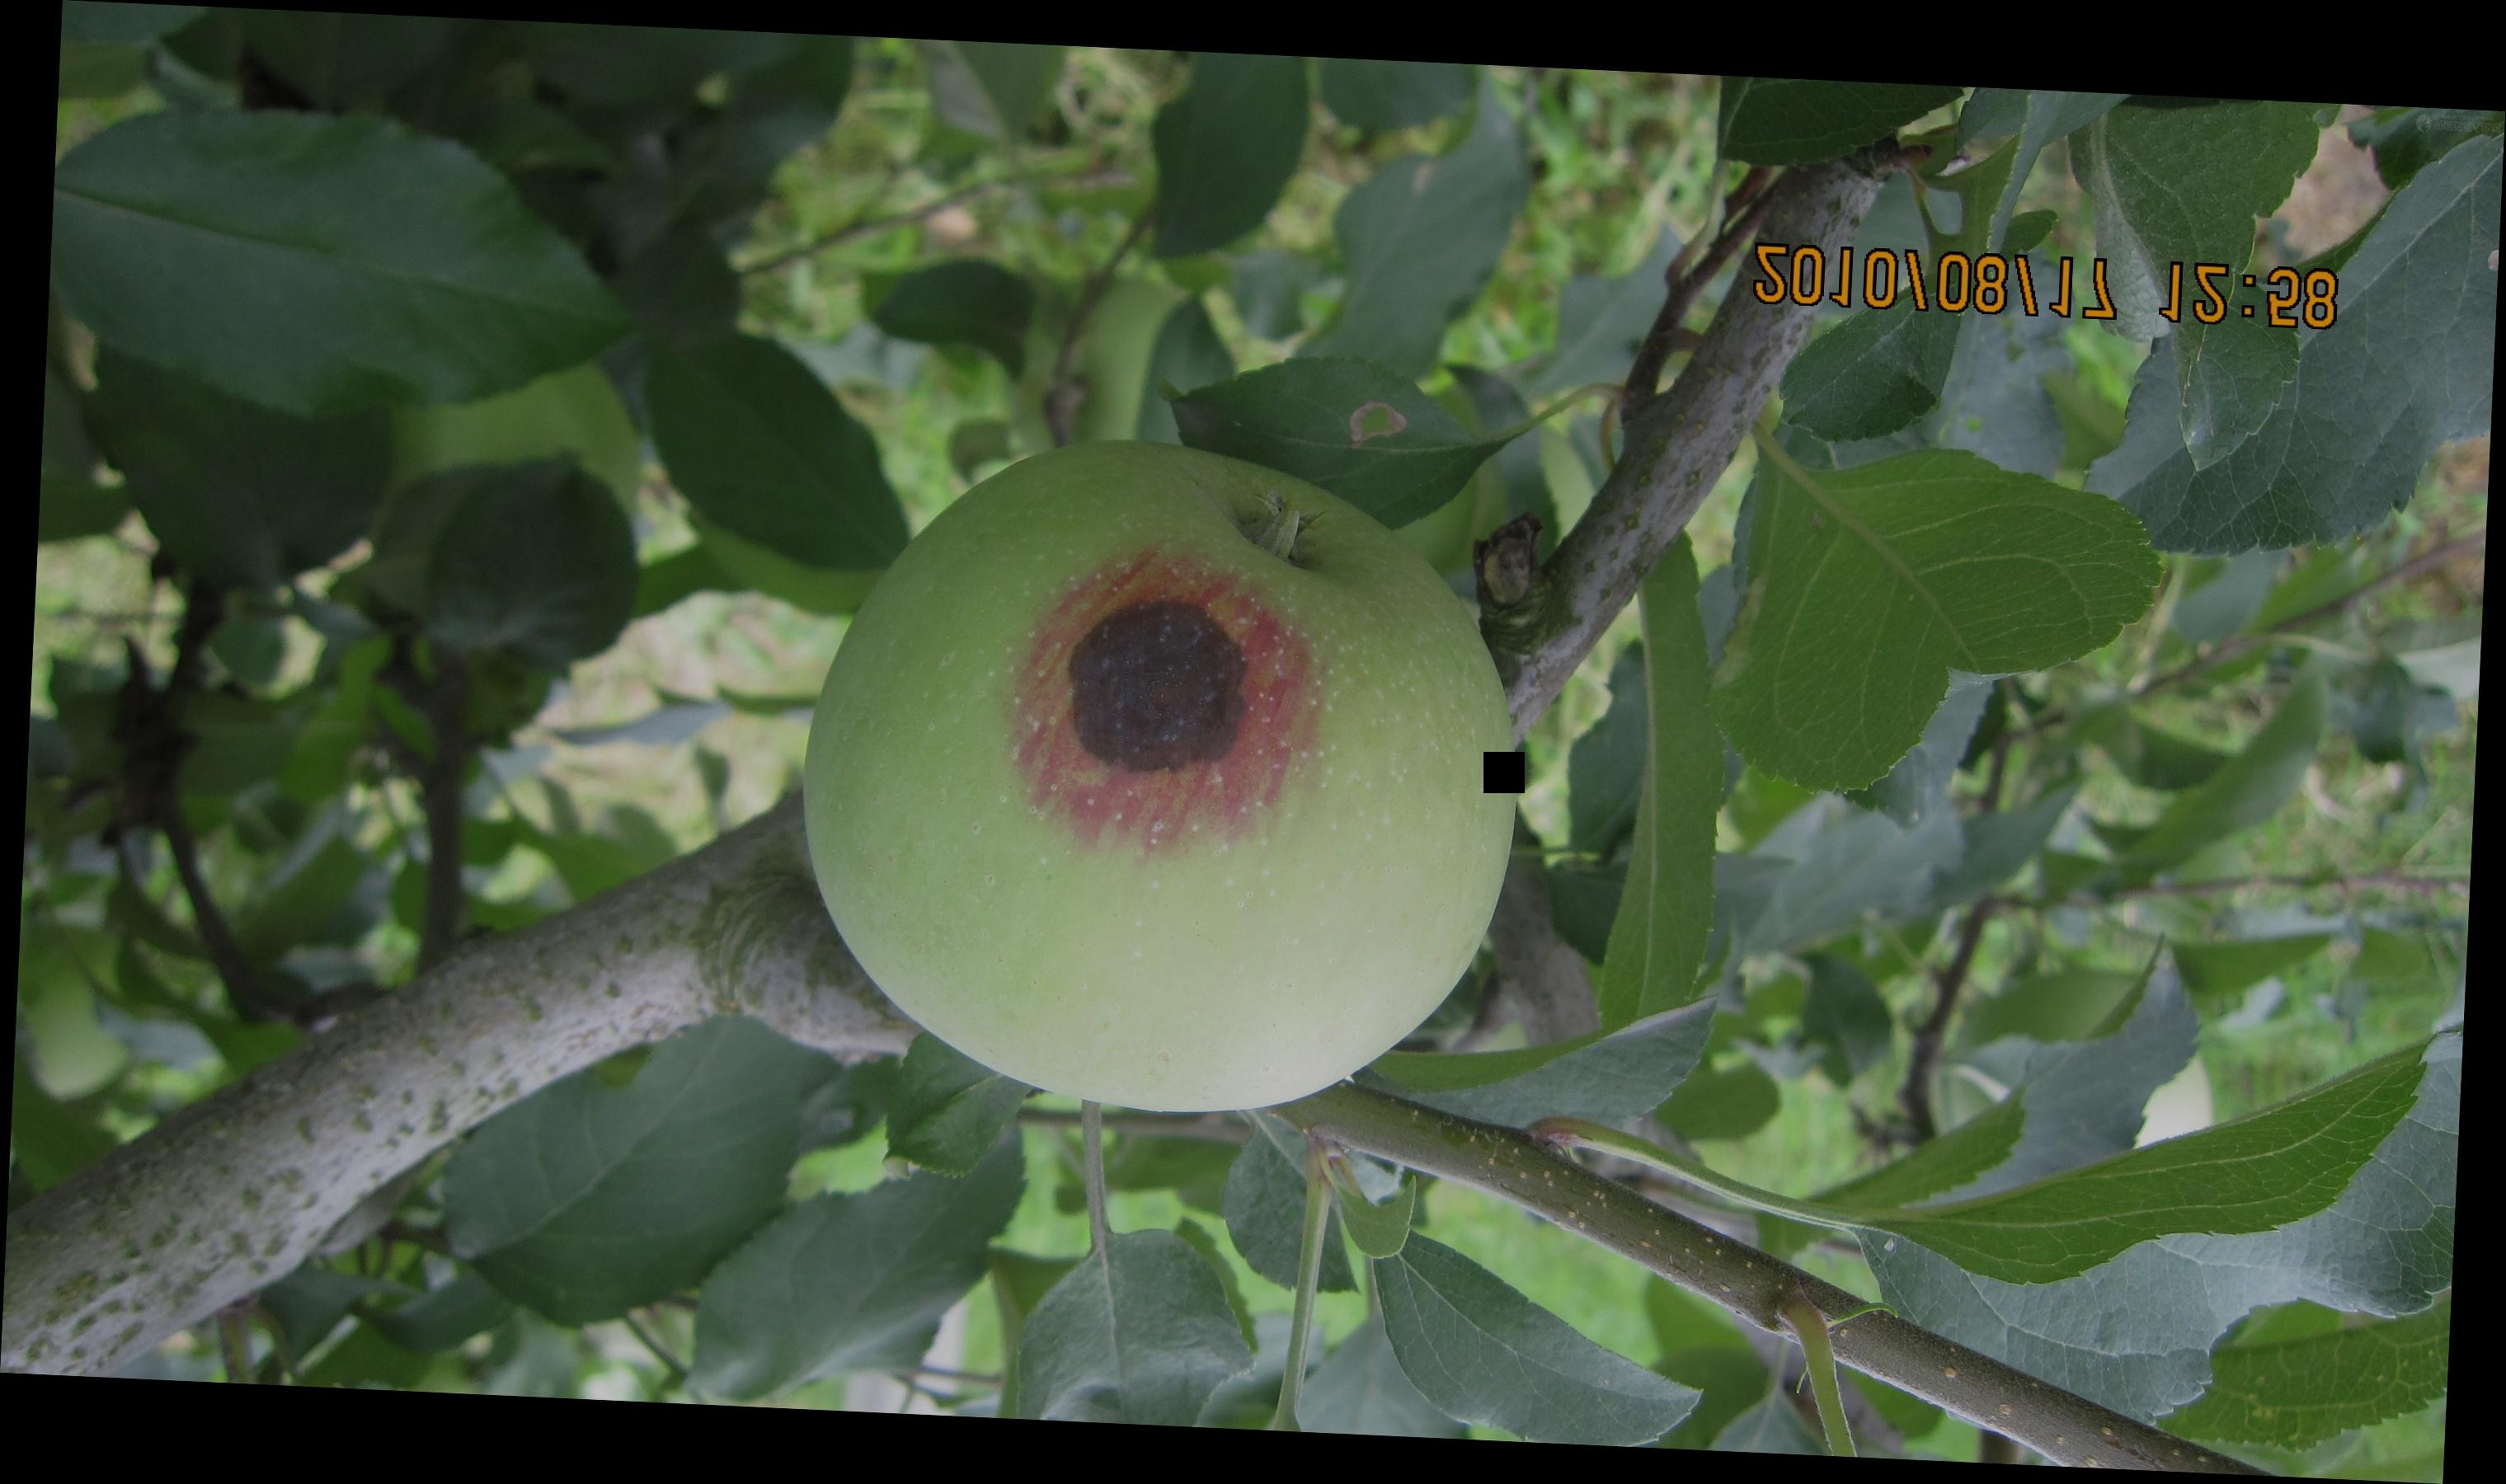rotten apple: (798, 431, 1565, 1113)
